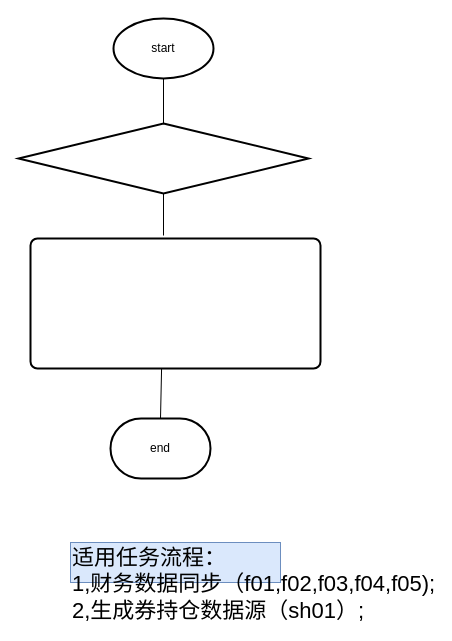
Image size: 452x641. Some labels were removed from this diagram. The box of each missing label's shape, as (x1, y1, x2, y2) in pixels:
根据获取的结果集比较更新当前表的数据， 将历史数据迁移到历史数据表中: (29, 237, 321, 369)
根据调度信号判断， 任务是否需要执行: (17, 122, 309, 194)
